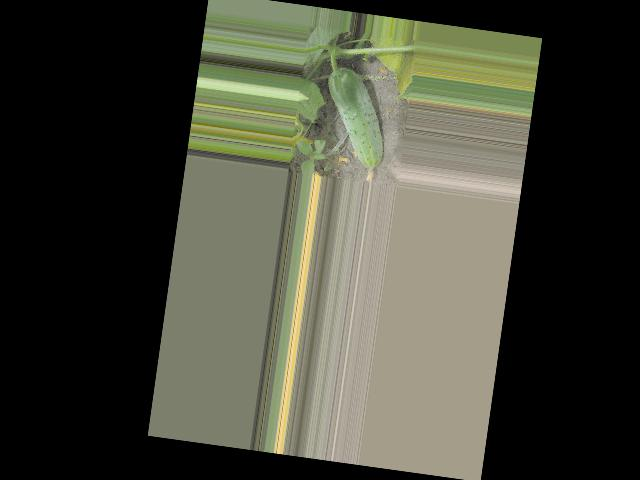cucumber: (315, 66, 394, 184)
